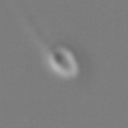normal: (8, 1, 53, 48)
